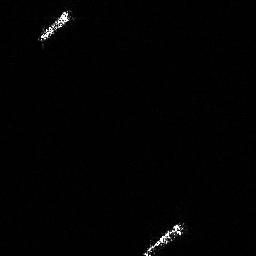ship: (138, 220, 187, 256), (35, 8, 75, 43)
